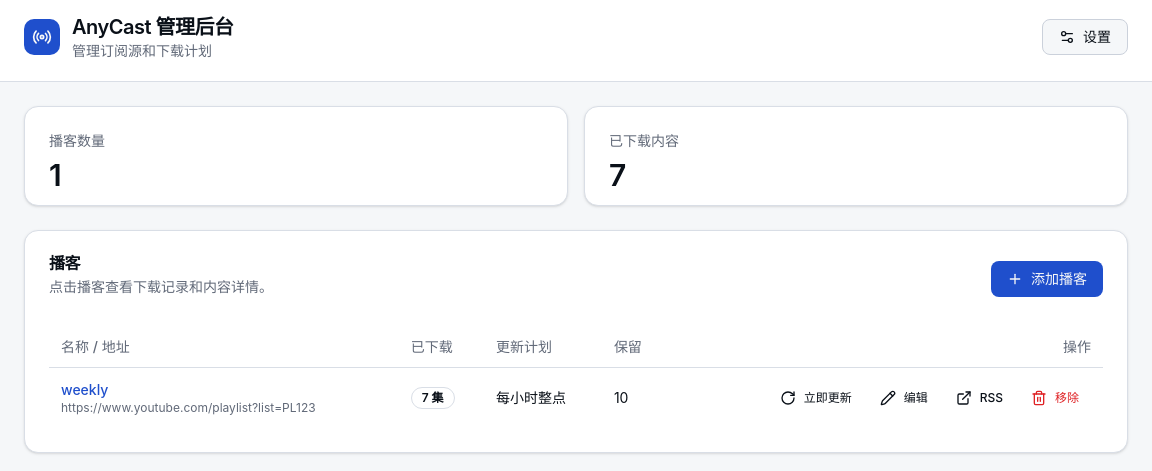
Test: AnyCast admin › opens podcast details when clicking anywhere on its row
The width and height of the screenshot is (1152, 471).
Click the text "7 集" at (433, 398), box 411,386 -> 455,408
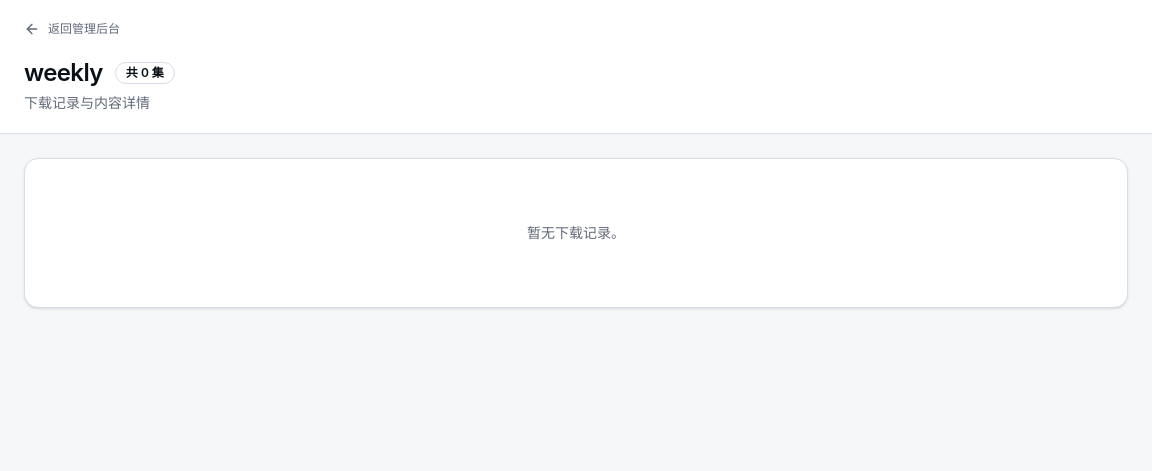
Expected: the text "暂无下载记录。" is shown, 527,224 -> 625,241
